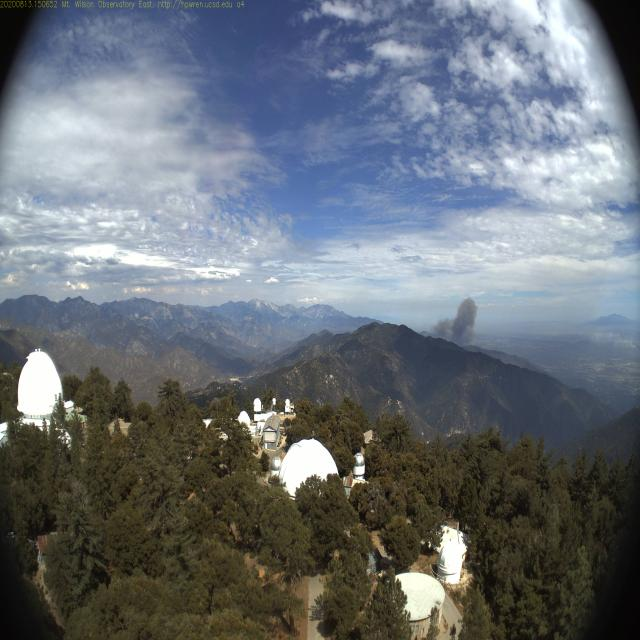smoke: (425, 296, 479, 352)
